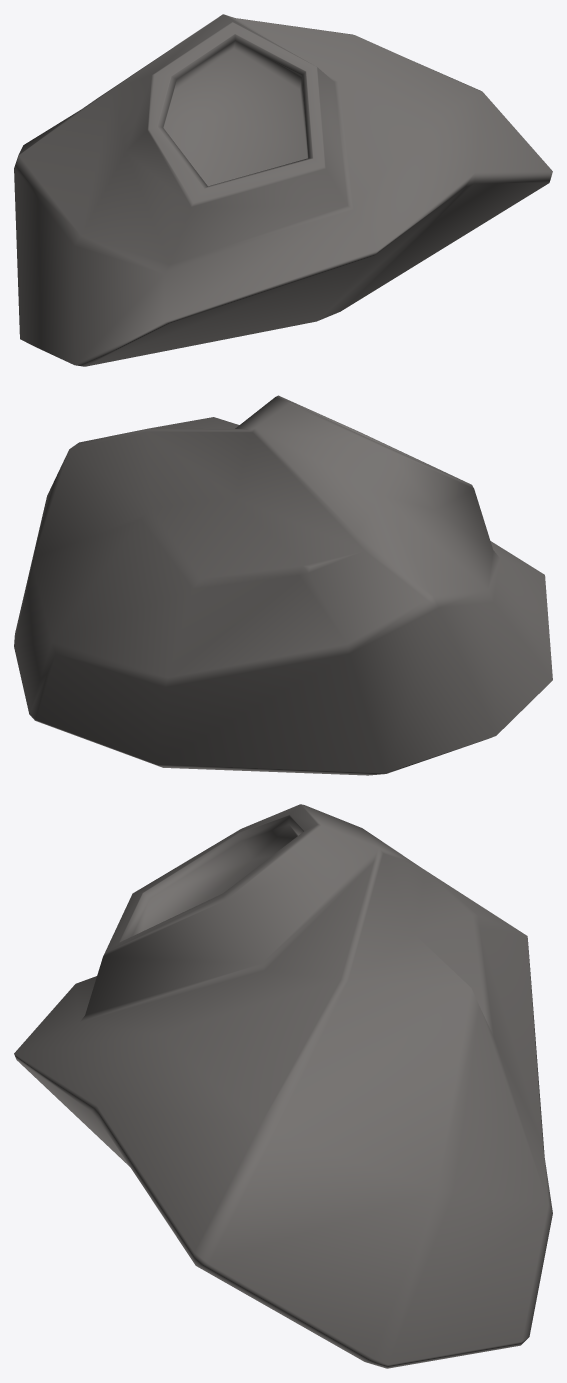
Rendered from _asteroid_06.fbx.
The picture shows the model from 3 angles, top to bottom: view 1: azimuth 30°, elevation 25°; view 2: azimuth 150°, elevation 25°; view 3: azimuth 270°, elevation 25°; orthographic projection. The views are drawn at different scales.
Parts seen in each view (by area): view 1: Аsteroid_06; view 2: Аsteroid_06; view 3: Аsteroid_06.
Boxes of the visible parts, box(x1,y1,x2,y2) form: Аsteroid_06: box(14, 14, 552, 366); Аsteroid_06: box(14, 395, 552, 775); Аsteroid_06: box(14, 804, 552, 1368).
Bounding box in the file's own units: 580 × 358 × 411.
1 material, 1 textured.
